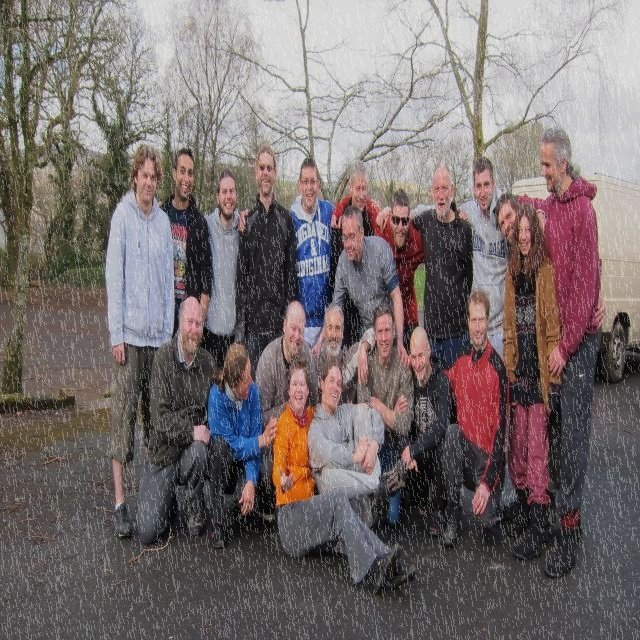pessoa: (513, 124, 601, 581), (270, 355, 420, 596), (102, 142, 178, 542), (374, 154, 512, 364), (407, 286, 510, 546), (134, 294, 228, 550), (498, 200, 564, 562), (376, 162, 474, 362), (306, 358, 408, 534), (310, 204, 410, 370), (206, 340, 278, 550), (254, 299, 320, 522), (234, 142, 295, 380), (356, 303, 414, 526), (395, 324, 453, 538), (158, 146, 214, 342), (374, 183, 426, 360), (288, 154, 334, 352), (330, 158, 376, 352), (200, 168, 242, 372), (312, 301, 377, 410), (494, 190, 518, 253)
